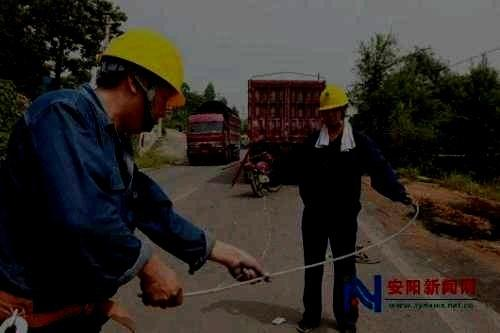helmet: (96, 25, 186, 134), (316, 85, 350, 128)
